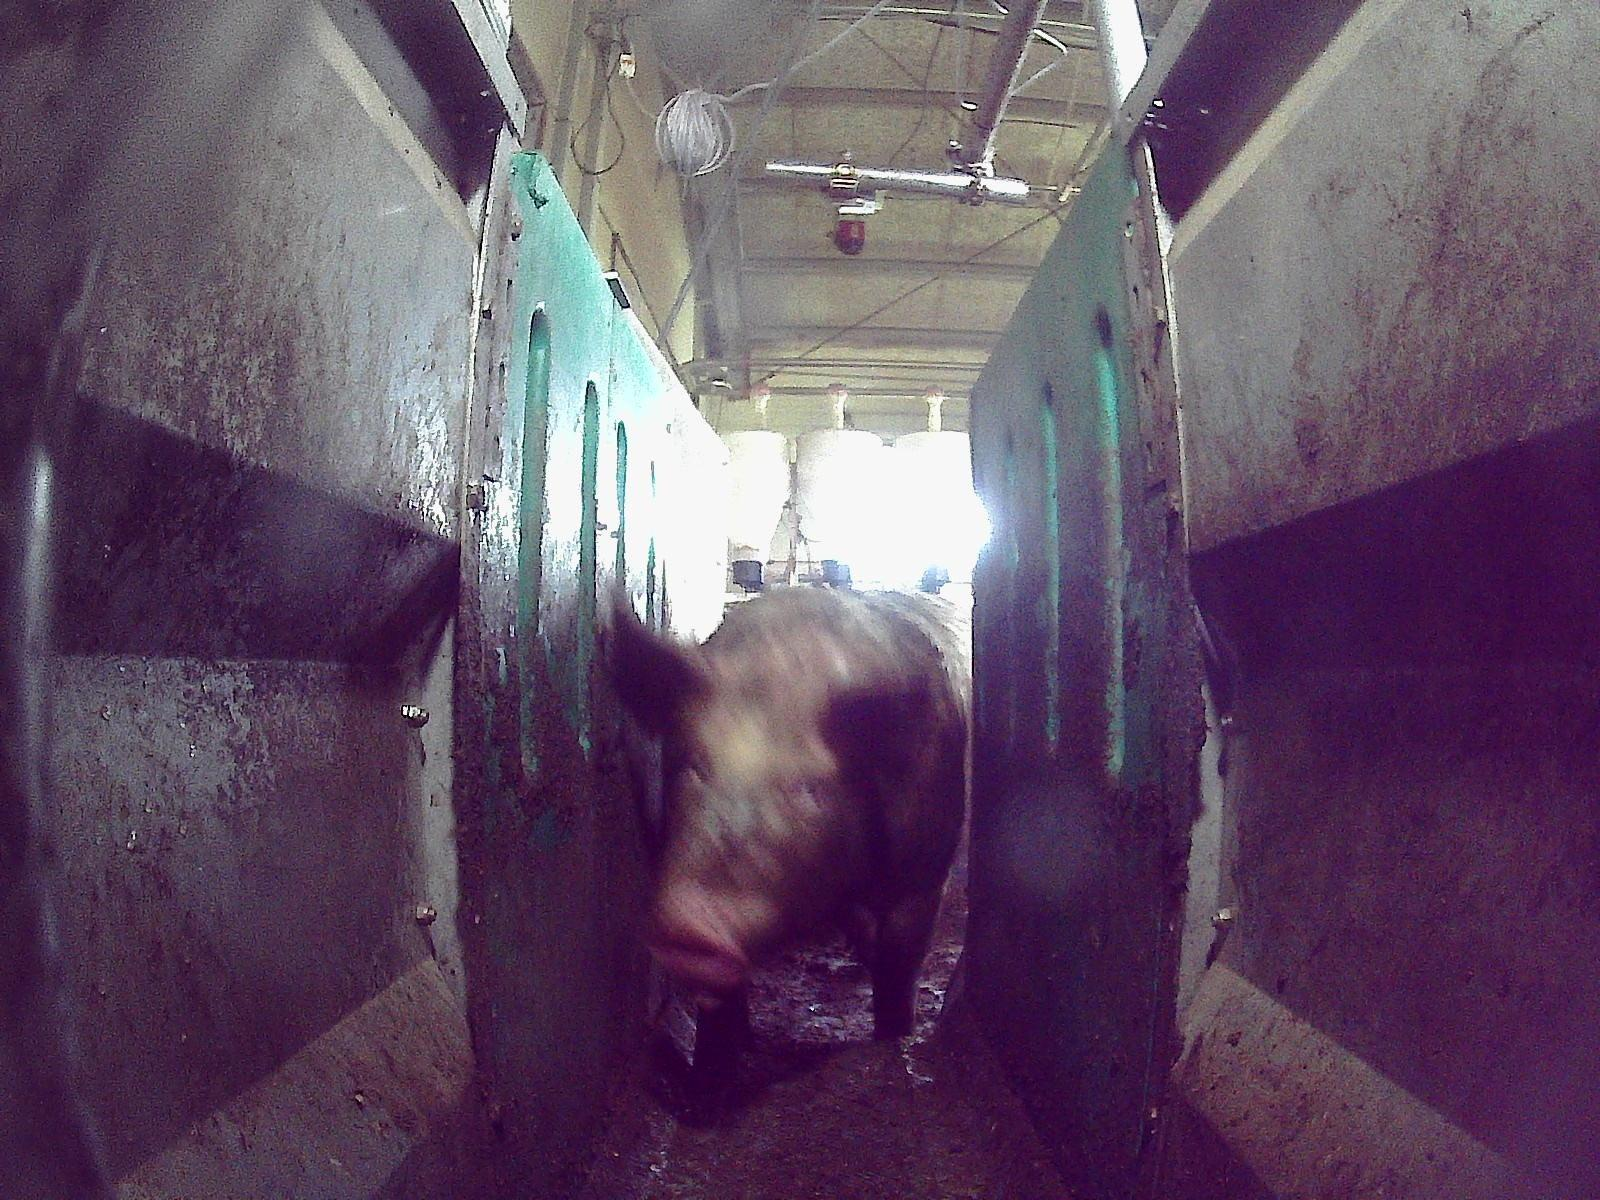Face: (641, 682, 860, 986)
